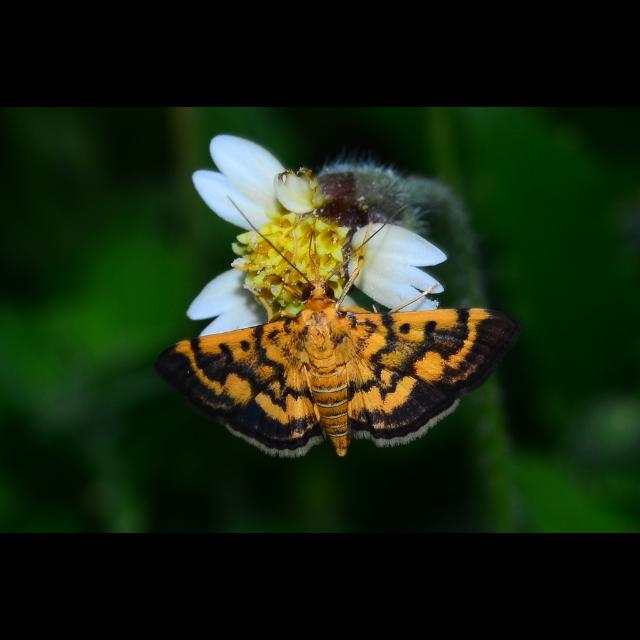Flower: (184, 133, 452, 340)
